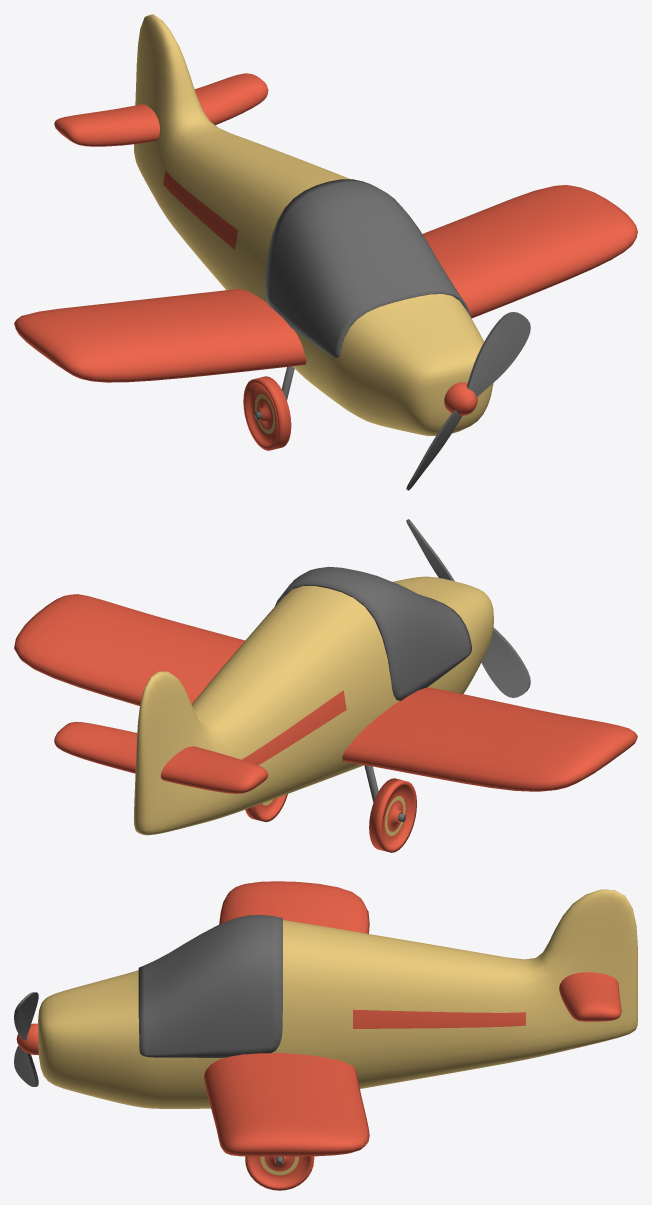
Rendered from airplane.glb.
3 views of the same model, one above another, from view 1: azimuth 30°, elevation 25°; view 2: azimuth 150°, elevation 25°; view 3: azimuth 270°, elevation 25° (orthographic). The views are drawn at different scales.
Visible parts, largest first — view 1: Airplane, Plane.003, Propeller; view 2: Airplane, Plane.003; view 3: Airplane, Plane.003, Propeller.
Part boxes in pixels (bbox=[...]): Airplane: bbox=[14, 14, 637, 450]; Plane.003: bbox=[406, 312, 530, 490]; Propeller: bbox=[444, 382, 477, 415]; Airplane: bbox=[14, 567, 637, 852]; Plane.003: bbox=[406, 519, 530, 697]; Airplane: bbox=[38, 881, 637, 1190]; Plane.003: bbox=[14, 992, 38, 1086]; Propeller: bbox=[16, 1023, 38, 1054].
Bounding box in the file's own units: 4.06 × 1.93 × 4.06.
